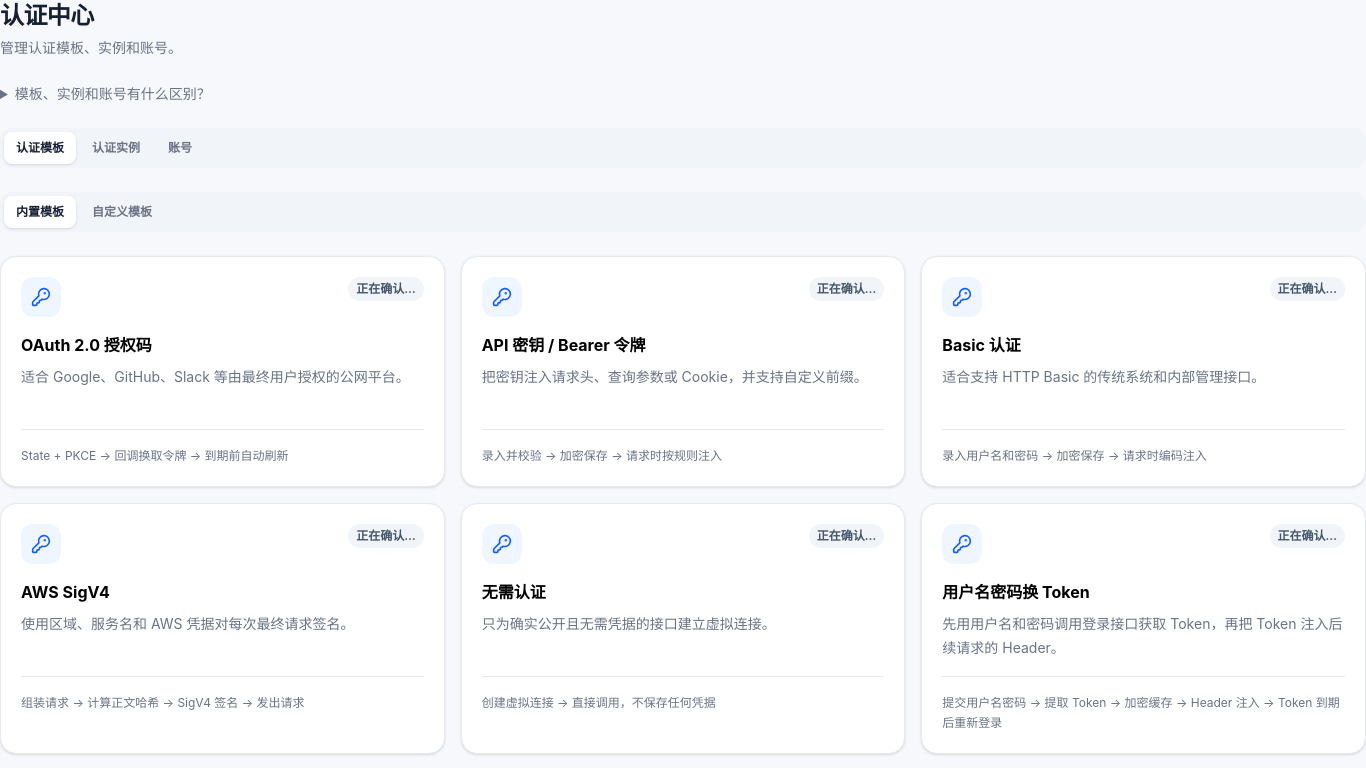
Test: backend-backed console state › shows built-in and enterprise authentication methods together
Expected: the tab "认证模板" is shown, [4, 132, 76, 164]
Expected: the button "OAuth 2.0 授权码" is shown, [0, 256, 445, 487]
What coordinates should you click on to do the following:
click the button "用户名密码换 Token"
I would click on:
 (1144, 628)
Its box is [921, 503, 1365, 754].
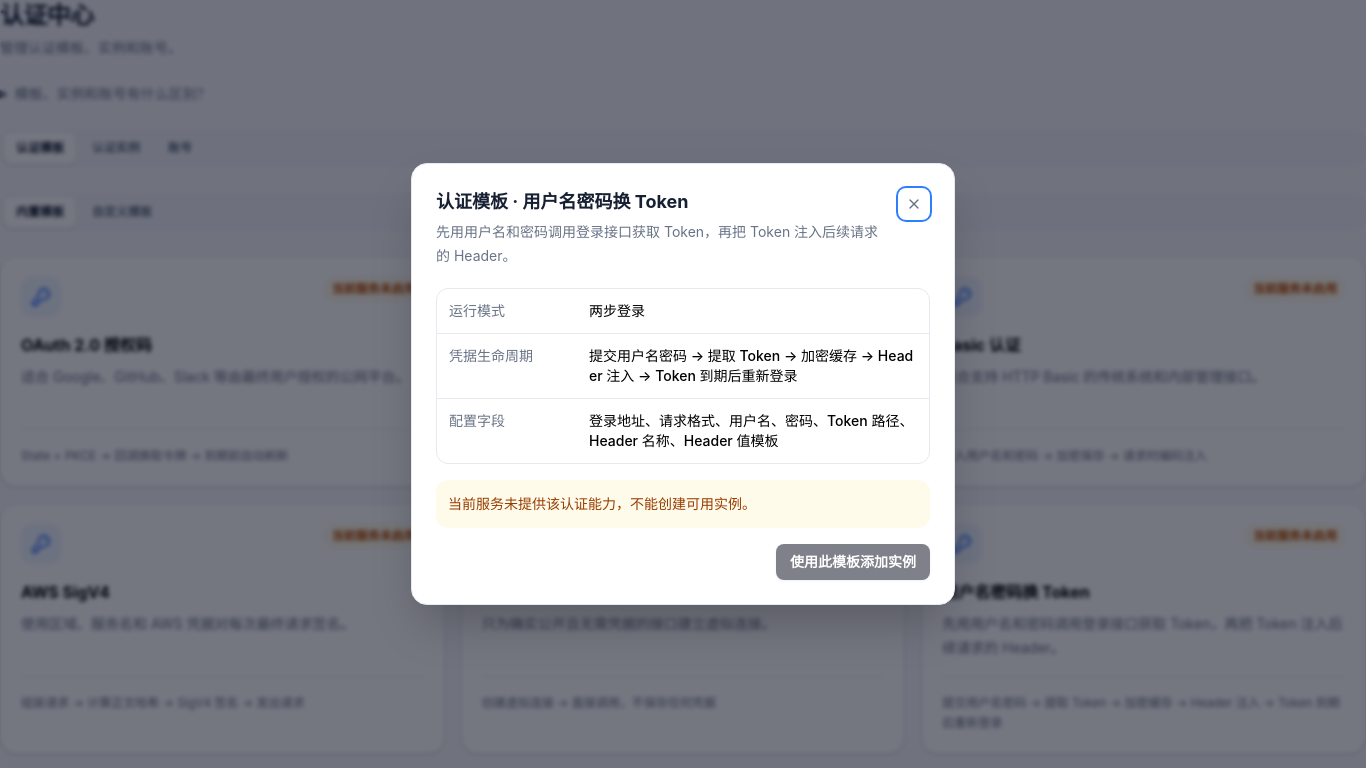
Expected: the button "使用此模板添加实例" is shown, [776, 544, 930, 580]
